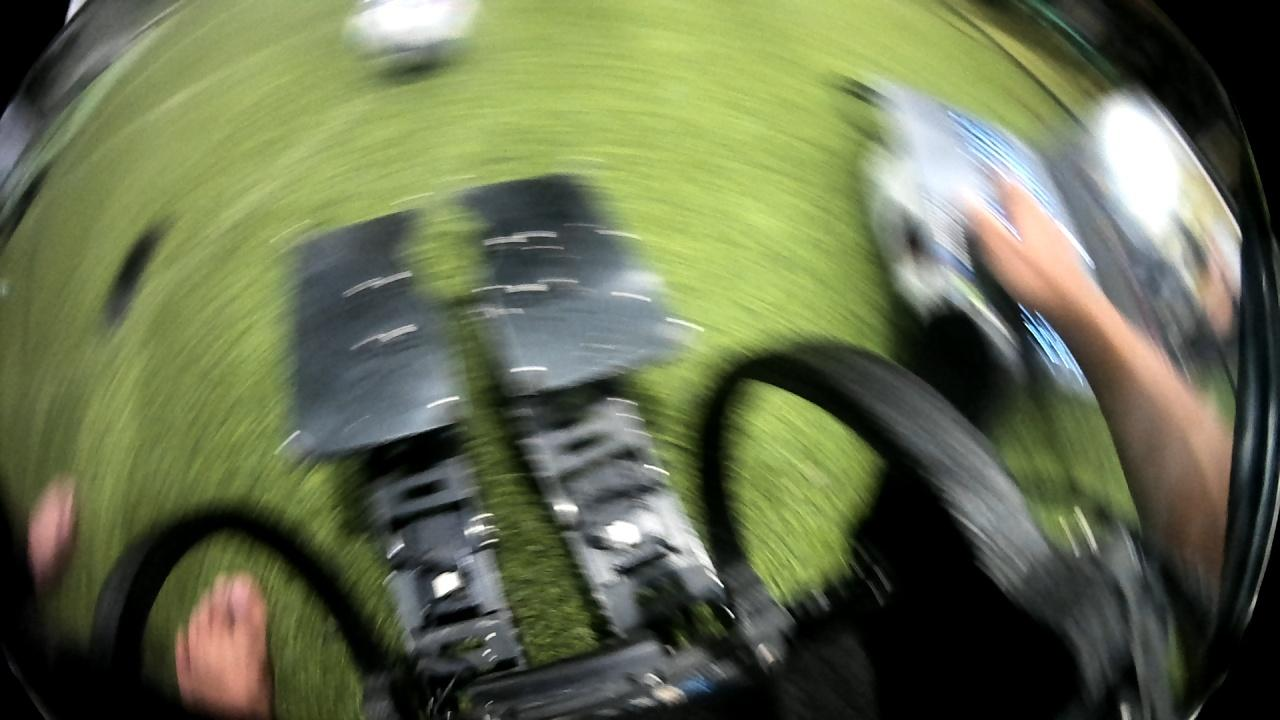ball: (341, 0, 491, 83)
